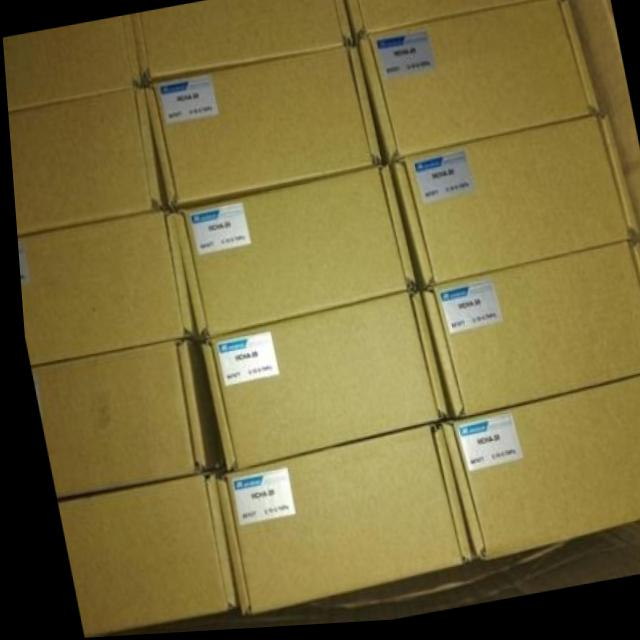box: (206, 427, 465, 616), (189, 291, 445, 476), (387, 119, 636, 293), (168, 169, 417, 343), (354, 0, 598, 169), (417, 243, 640, 425), (433, 380, 640, 567), (141, 48, 379, 208), (25, 341, 218, 500), (50, 475, 230, 638), (14, 208, 190, 365), (6, 84, 166, 236), (130, 0, 354, 83), (2, 19, 141, 109), (344, 0, 562, 48)
